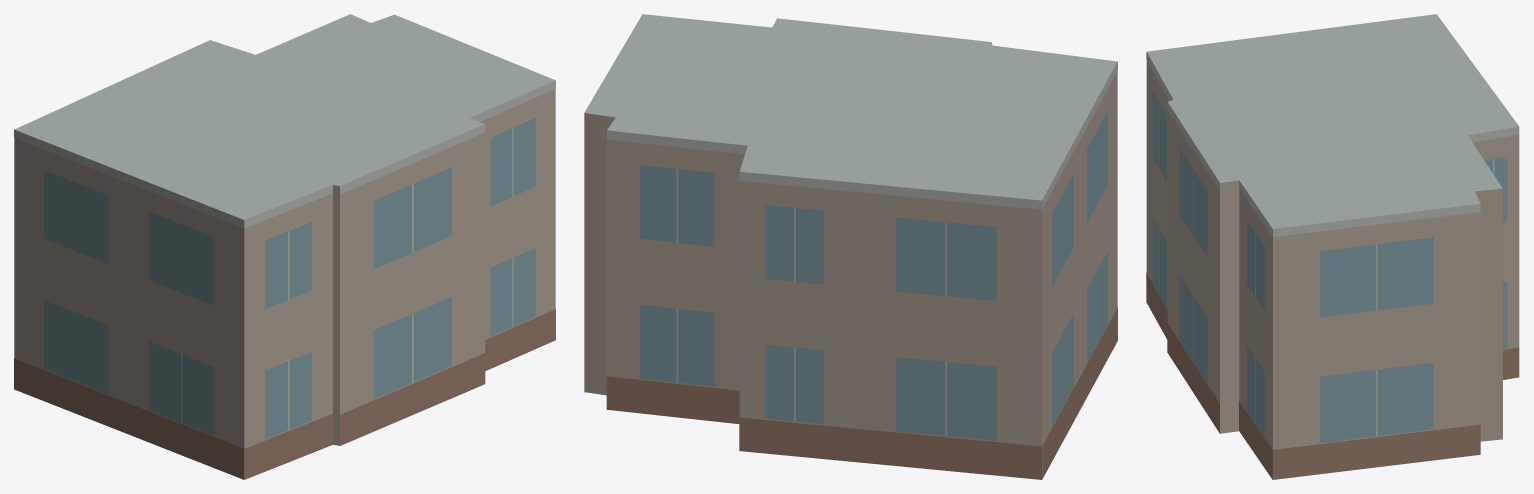
File: survey-upis-32758940.glb
The picture shows the model from 3 angles, left to right: view 1: azimuth 30°, elevation 25°; view 2: azimuth 150°, elevation 25°; view 3: azimuth 270°, elevation 25°; orthographic projection. The views are drawn at different scales.
Visible parts, largest first — view 1: survey-upis-32758940.tmp; view 2: survey-upis-32758940.tmp; view 3: survey-upis-32758940.tmp.
Boxes of the visible parts, x1=… form: survey-upis-32758940.tmp: x1=14, y1=14, x2=555, y2=479; survey-upis-32758940.tmp: x1=584, y1=14, x2=1117, y2=479; survey-upis-32758940.tmp: x1=1146, y1=14, x2=1519, y2=479.
Bounding box in the file's own units: 13.8 × 7.5 × 10.11.
